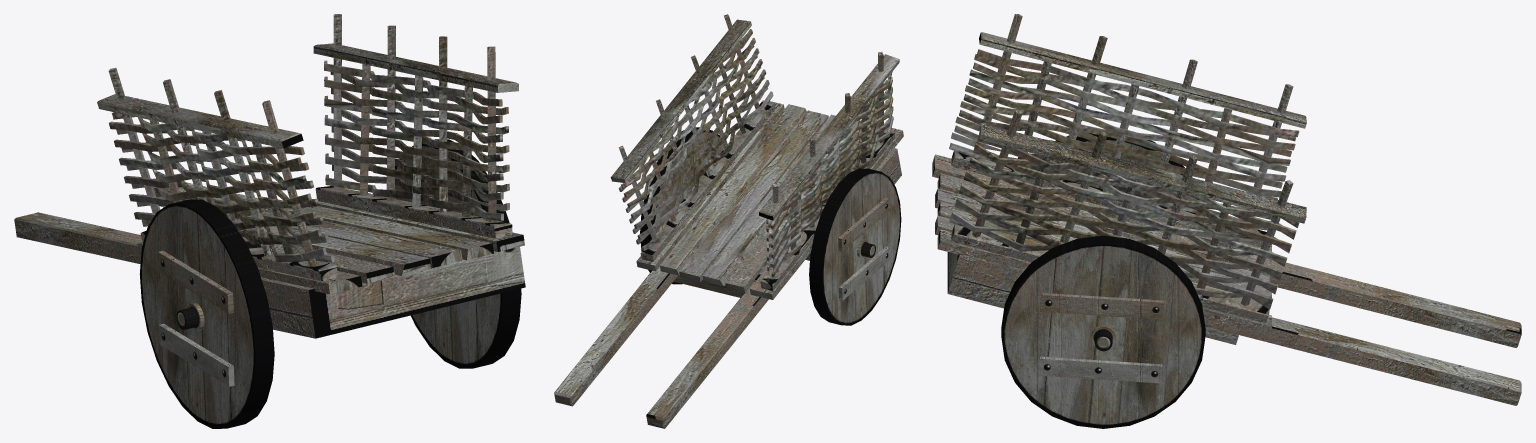
File: Wagen1.FBX
The picture shows the model from 3 angles, left to right: view 1: azimuth 30°, elevation 25°; view 2: azimuth 150°, elevation 25°; view 3: azimuth 270°, elevation 25°; orthographic projection. The views are drawn at different scales.
Parts seen in each view (by area): view 1: object9, object2, object3, object5, object8, object4, object1, object6, object7; view 2: object5, object9, object2, object3, object8, object6, object1, object7, object4; view 3: object9, object2, object3, object5, object8, object1, object6.
Boxes of the visible parts, x1,y1,x2,y2 form: object9: (109, 60, 509, 262); object2: (139, 139, 521, 428); object3: (14, 46, 497, 338); object5: (16, 43, 523, 289); object8: (108, 14, 496, 266); object4: (282, 84, 525, 338); object1: (158, 250, 234, 386); object6: (140, 82, 518, 280); object7: (328, 235, 524, 294); object5: (555, 19, 902, 417); object9: (618, 29, 893, 281); object2: (640, 127, 901, 325); object3: (554, 21, 903, 428); object8: (618, 14, 884, 272); object6: (611, 19, 897, 290); object1: (838, 197, 890, 300); object7: (636, 250, 772, 299); object4: (611, 177, 810, 297); object9: (949, 49, 1299, 309); object2: (1001, 132, 1205, 428); object3: (932, 38, 1521, 405); object5: (935, 32, 1519, 389); object8: (972, 14, 1293, 306); object1: (1038, 292, 1163, 383); object6: (951, 32, 1306, 315).
Size of the model in its own units: 1.1 by 1.24 by 2.13.
